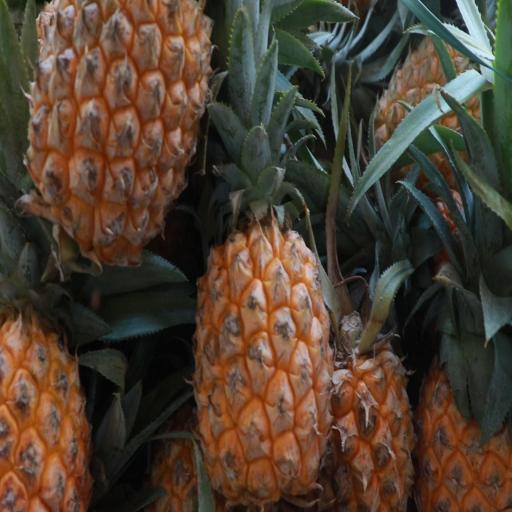Pineapple - v8 v1: (188, 149, 339, 511), (22, 2, 212, 276), (414, 187, 510, 512), (312, 288, 422, 512)
